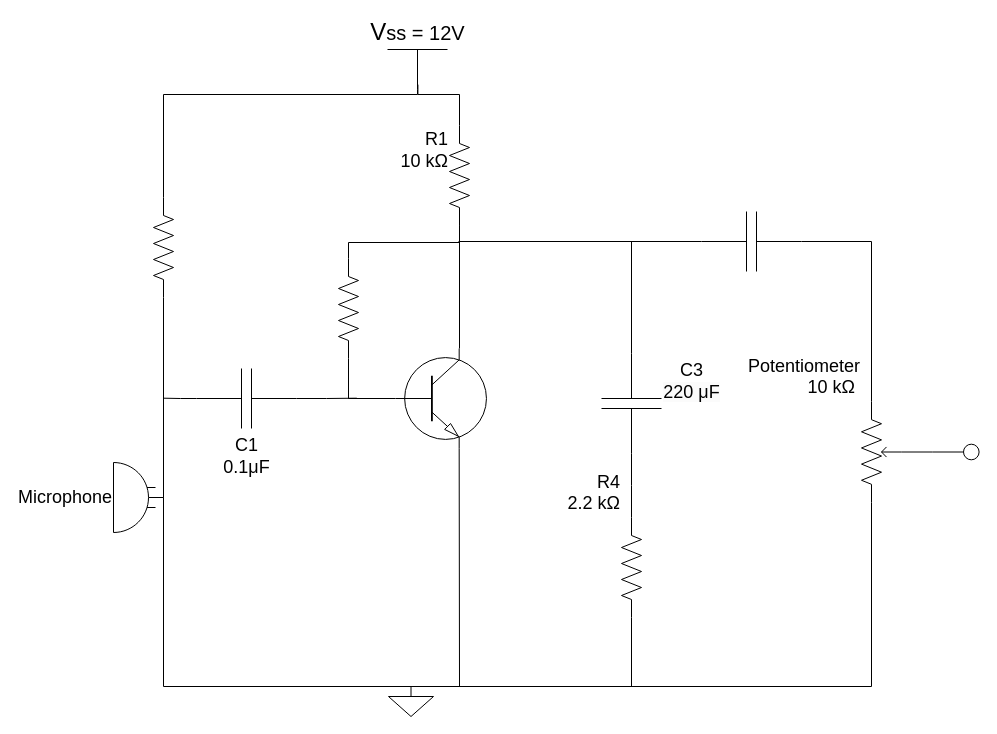
The diagram is 997 pixels wide and 734 high, and some of its shapes have lost their labels. The centre of each missing label's shape, as x and y in pixels:
C2 0.1μF: pixel 751 241
Q1 2N3904: pixel 440 398
R2 10 kΩ: pixel 163 247
R3 100 kΩ: pixel 348 308
